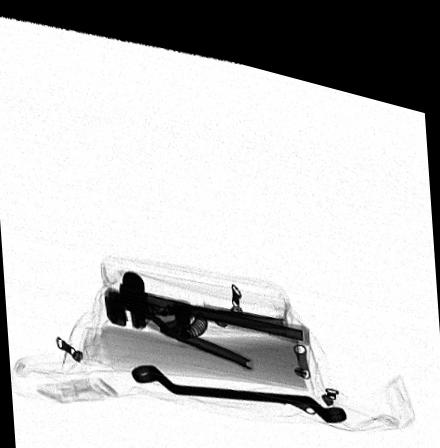Hammer: (120, 259, 308, 330)
Pliers: (101, 283, 285, 358)
Wrench: (129, 353, 348, 406)
